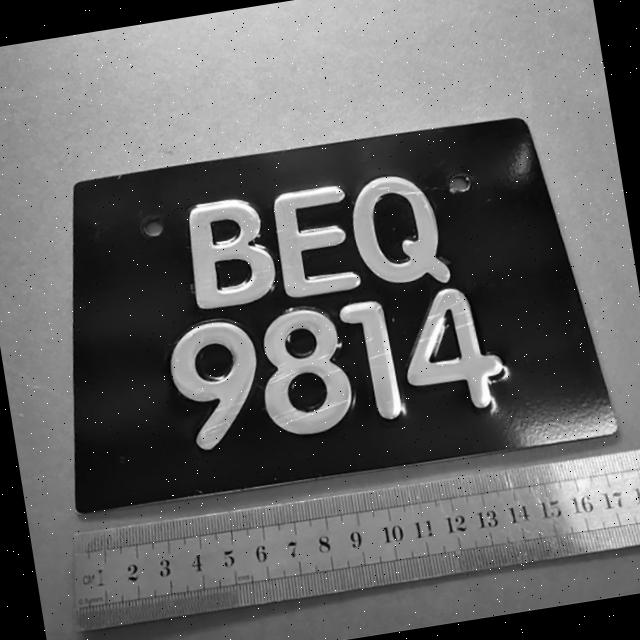License_Plate: (59, 99, 579, 520)
